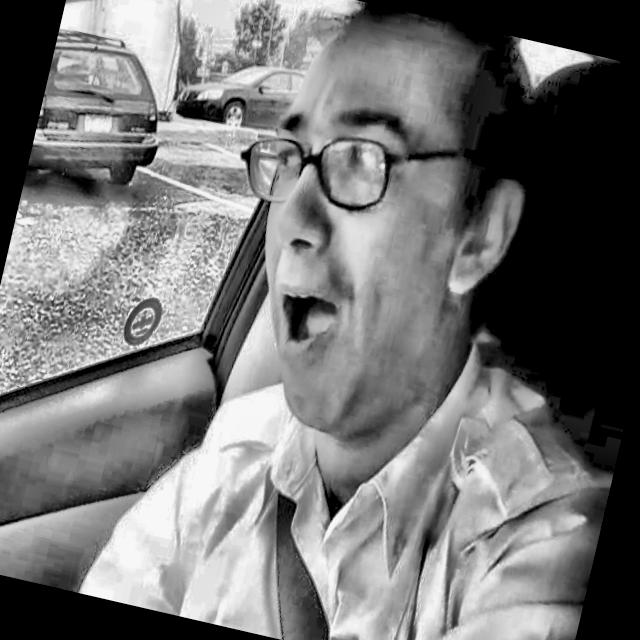open_mouth: (267, 275, 353, 375)
